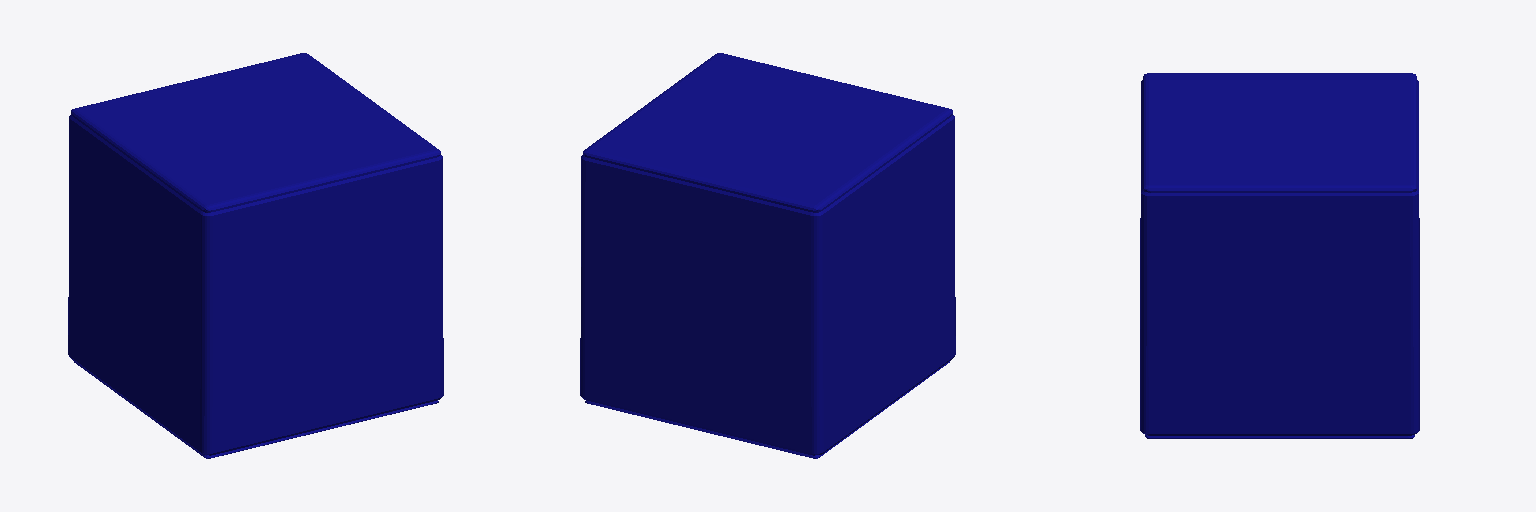
Rendered from bebelcube.obj.
3 renders of one model, left to right at view 1: azimuth 30°, elevation 25°; view 2: azimuth 150°, elevation 25°; view 3: azimuth 270°, elevation 25°, orthographic.
Visible parts, largest first — view 1: Cube; view 2: Cube; view 3: Cube.
Boxes of the visible parts, <box> form: Cube: <box>68,53,443,458</box>; Cube: <box>580,53,955,458</box>; Cube: <box>1140,73,1419,438</box>.
Bounding box in the file's own units: 2 × 2 × 2.